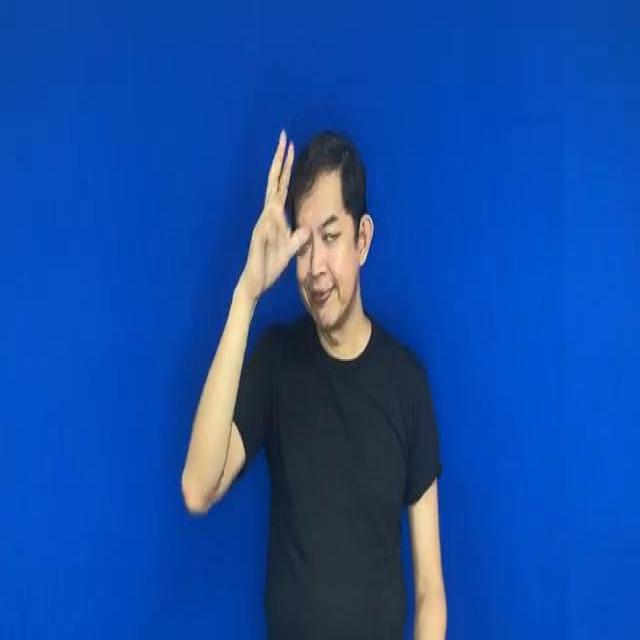chicken: (248, 136, 314, 289)
